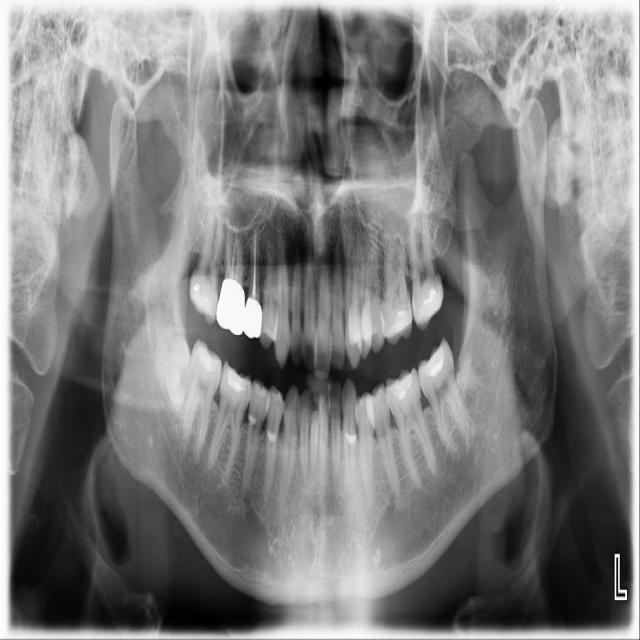Crown: (216, 279, 263, 338)
Filling: (189, 277, 214, 316), (382, 310, 412, 338), (386, 371, 414, 401), (196, 346, 224, 375), (422, 348, 449, 378), (224, 368, 251, 395), (416, 290, 439, 321)
Root Canal Treatment: (253, 231, 257, 299)
impacted tooth: (154, 335, 192, 406)
